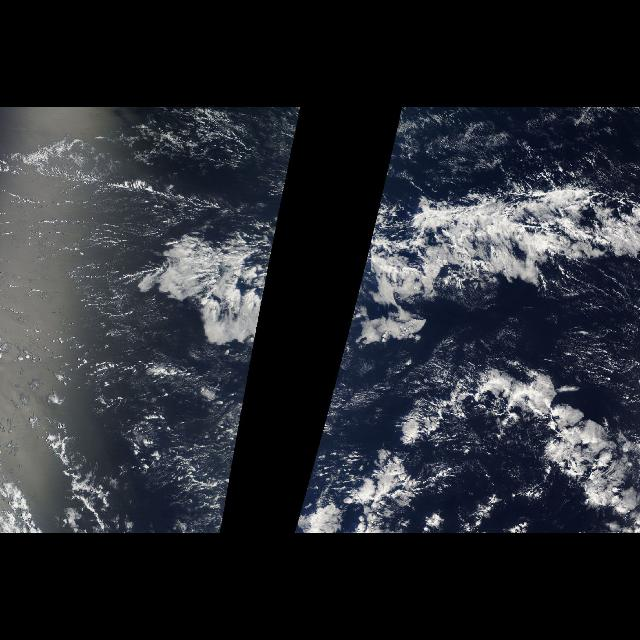Fish: (342, 180, 640, 524), (122, 180, 286, 350)
Sugar: (28, 171, 234, 499), (387, 109, 639, 169), (273, 109, 301, 169)
